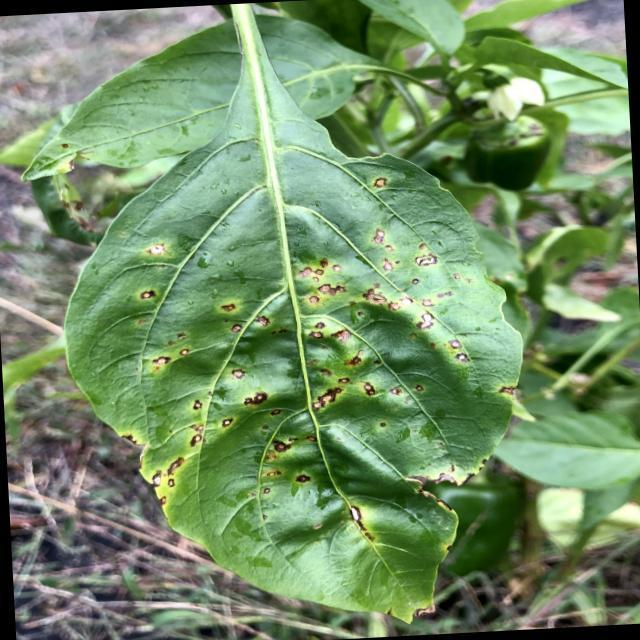Septoria: (127, 215, 479, 502)
